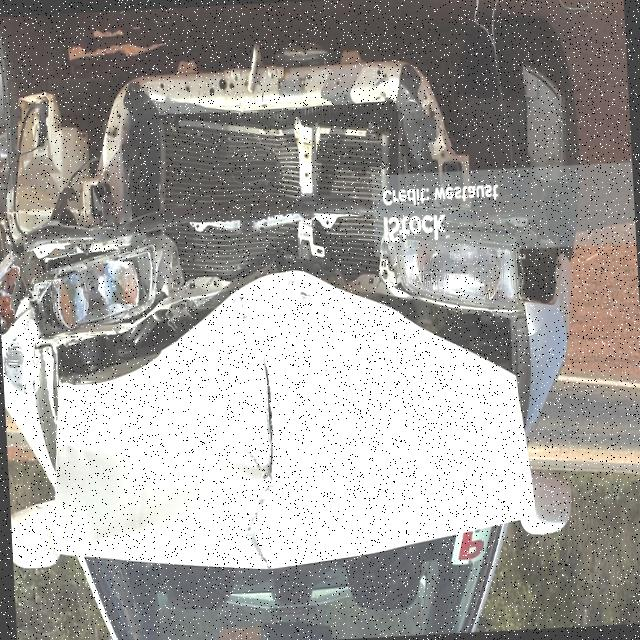Severe Damage: (0, 24, 561, 574)
